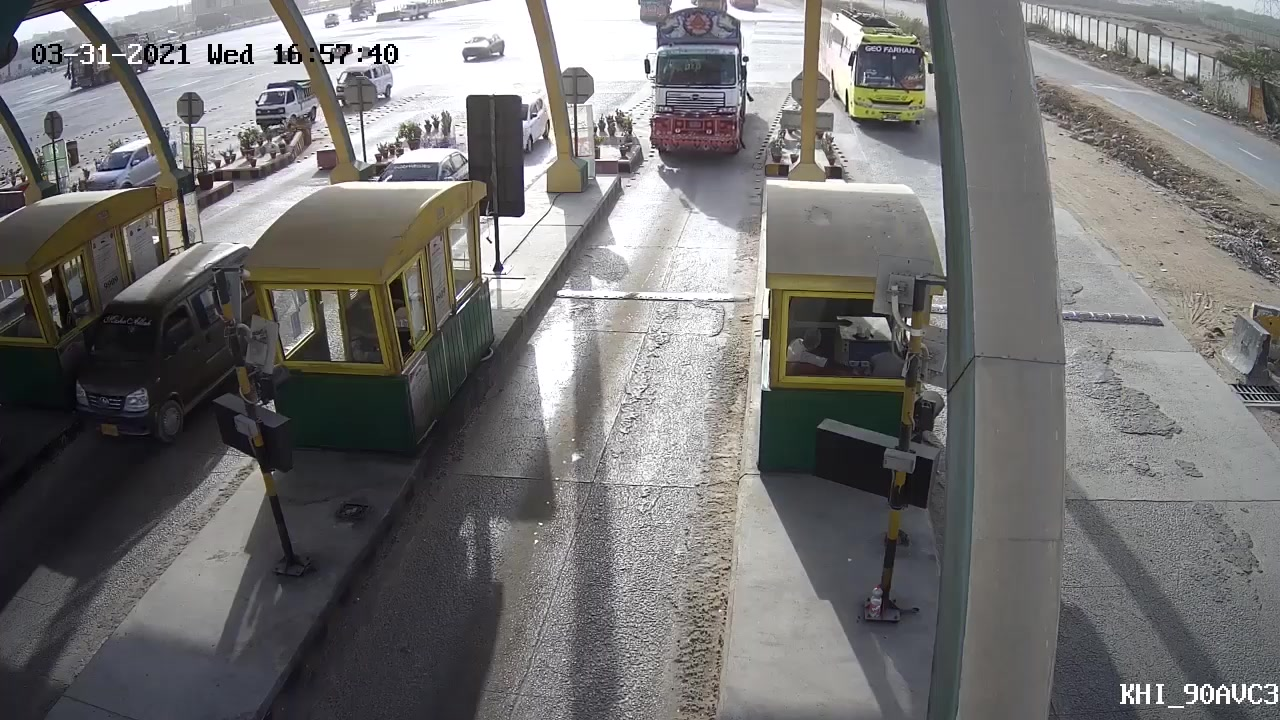F5: (633, 13, 753, 162)
